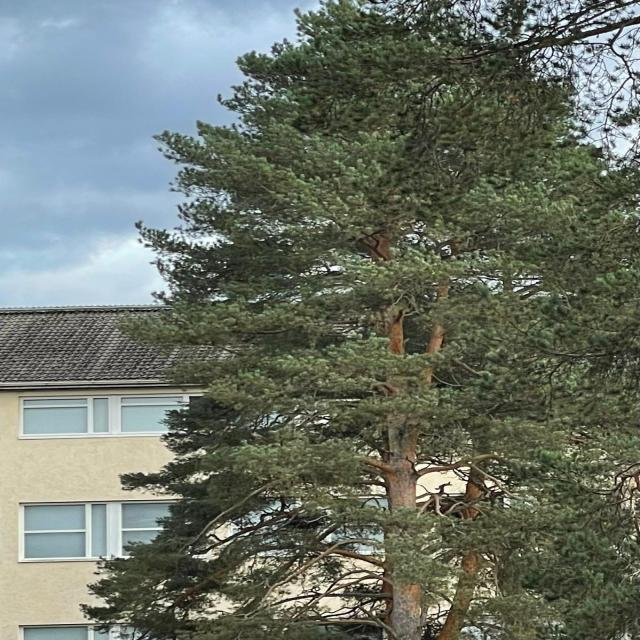pine: (107, 0, 616, 640)
